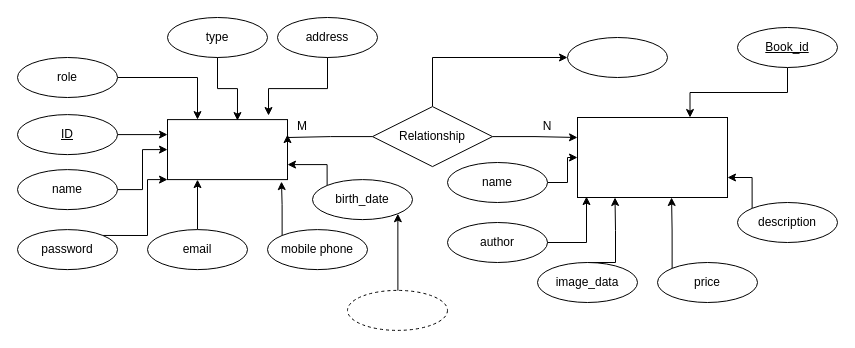
Some shapes in this 855 by 348 pixel diagram are drawn without their labels. Each missing label, with the centre of its shape:
"age" belongs at pixel 397 309.
"books" belongs at pixel 652 157.
"state" belongs at pixel 617 57.
"user_data" belongs at pixel 227 149.
